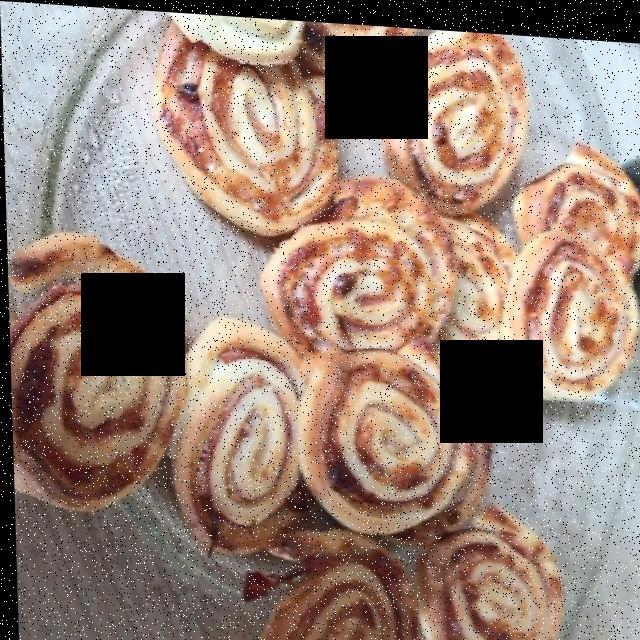puff-pastry: (35, 20, 640, 635)
